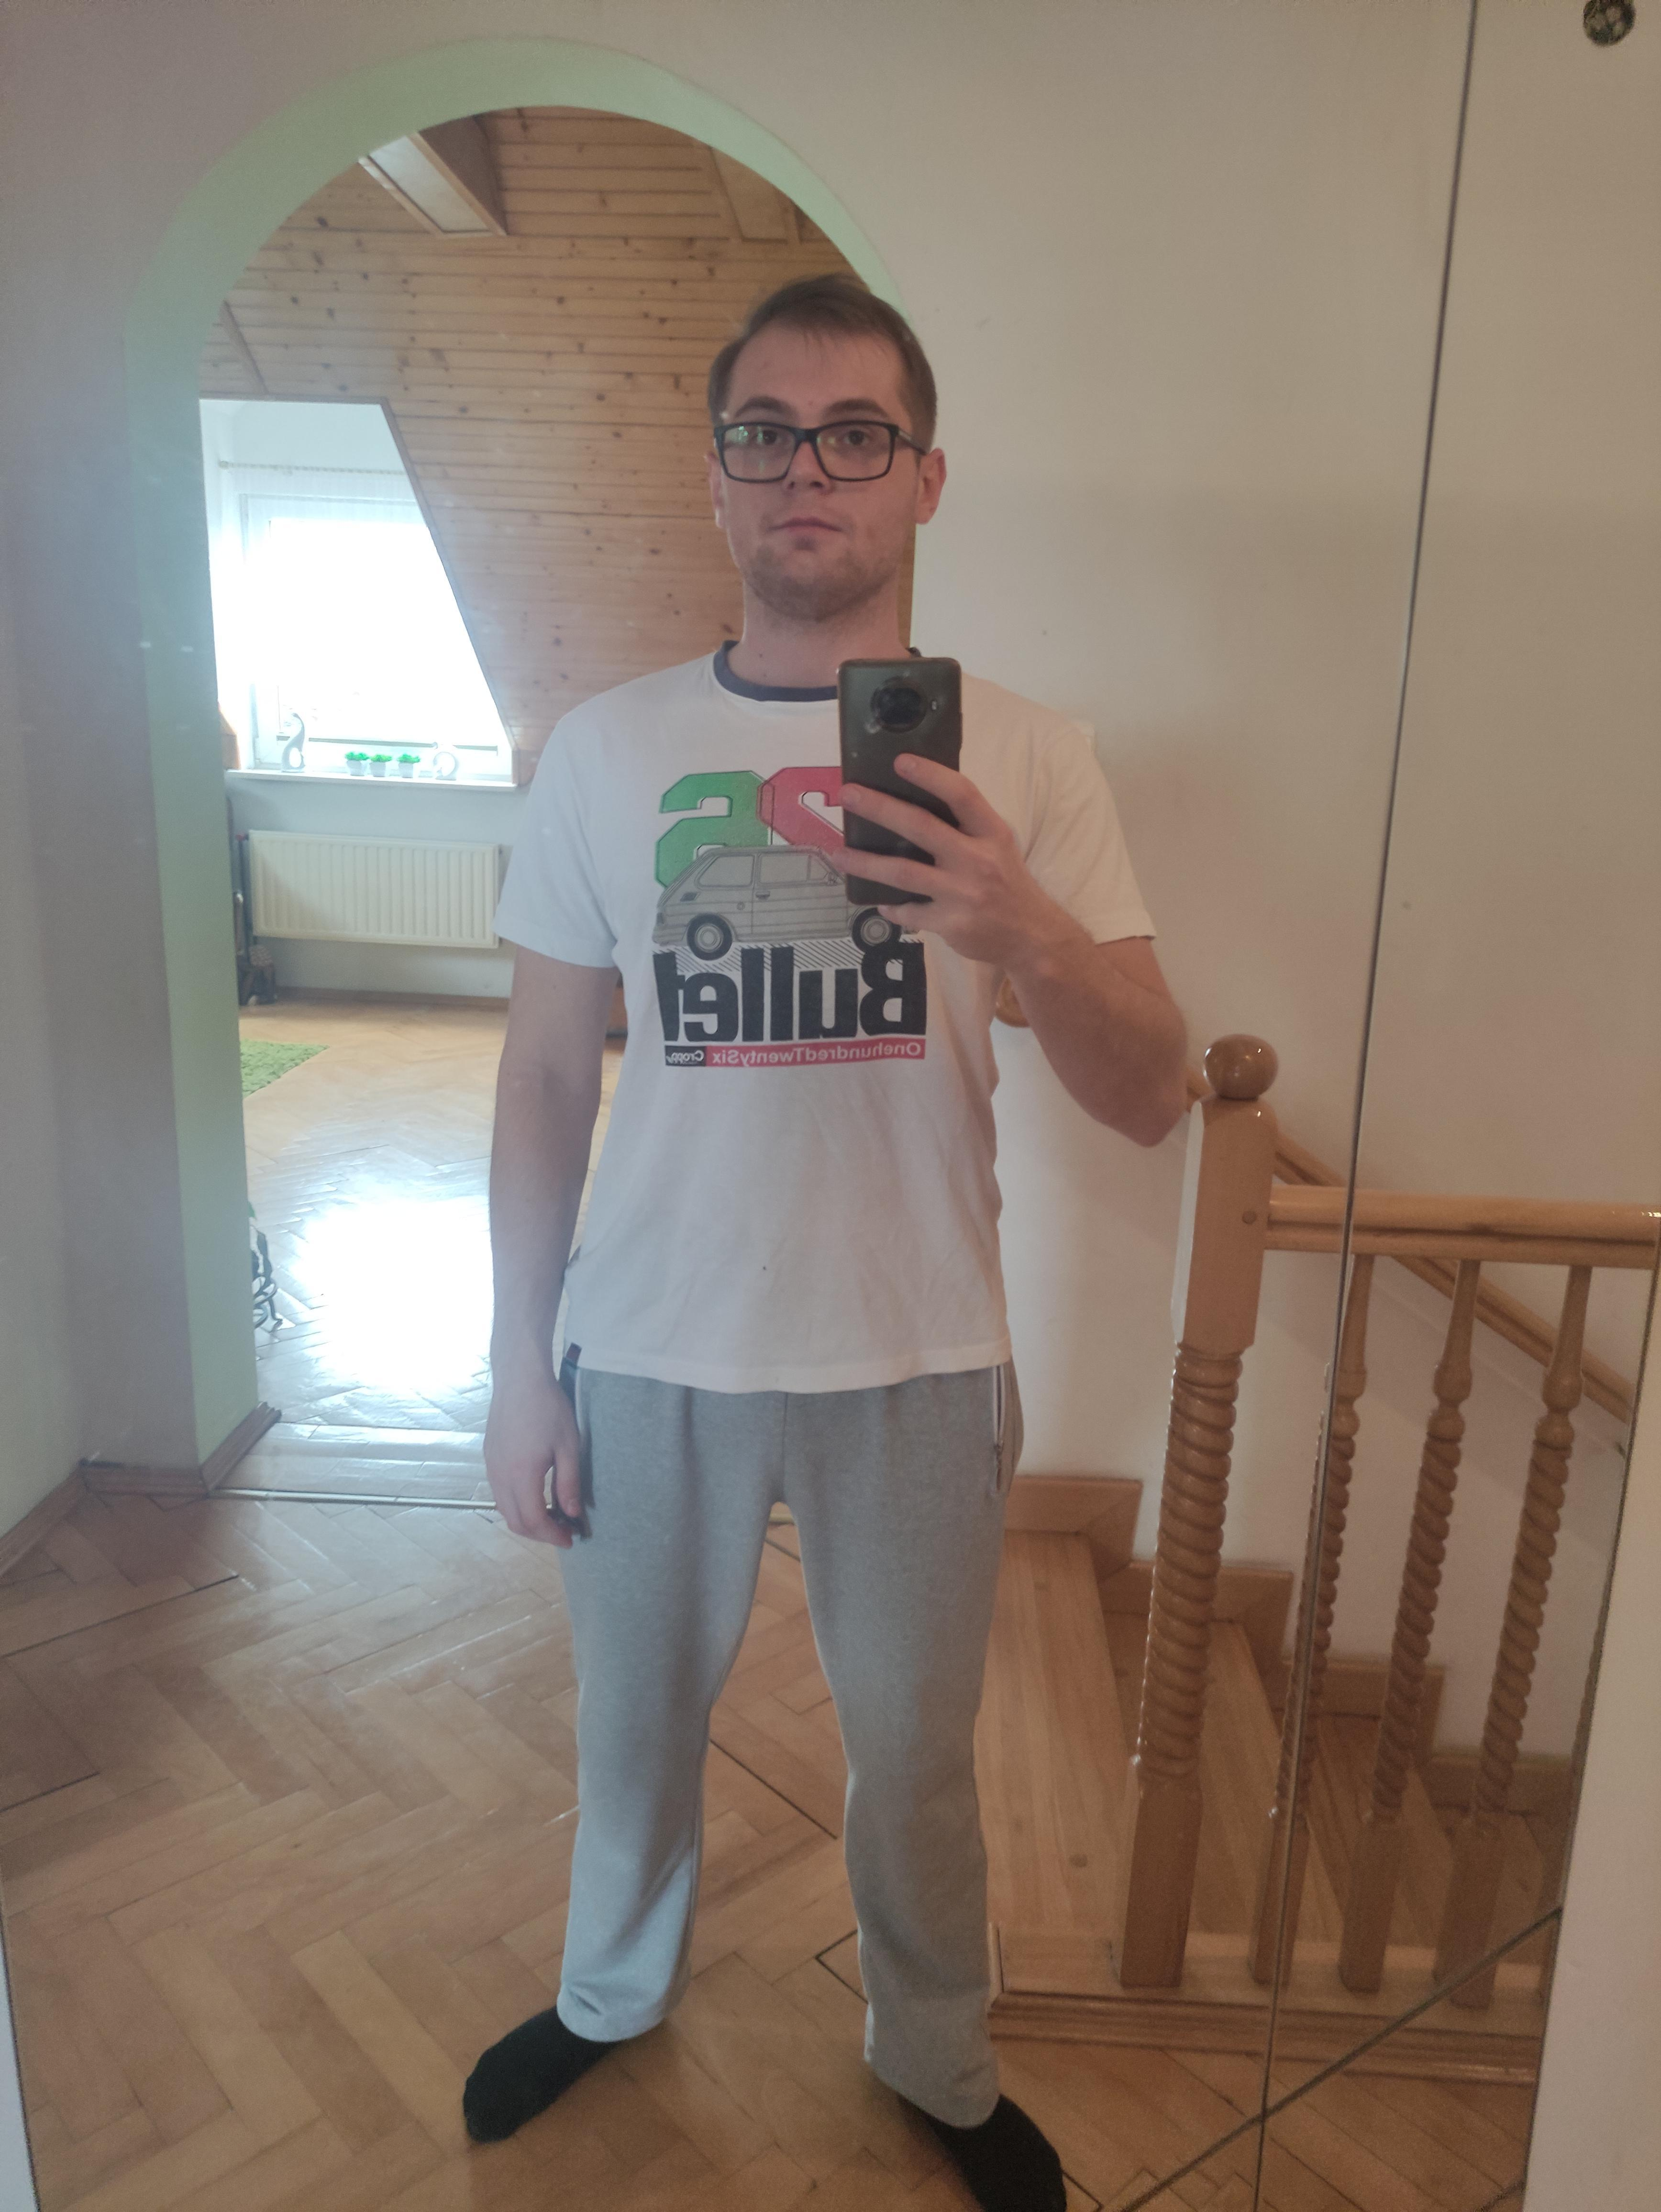Tshirt: (494, 640, 1165, 1397)
pants: (557, 1312, 1028, 2120)
